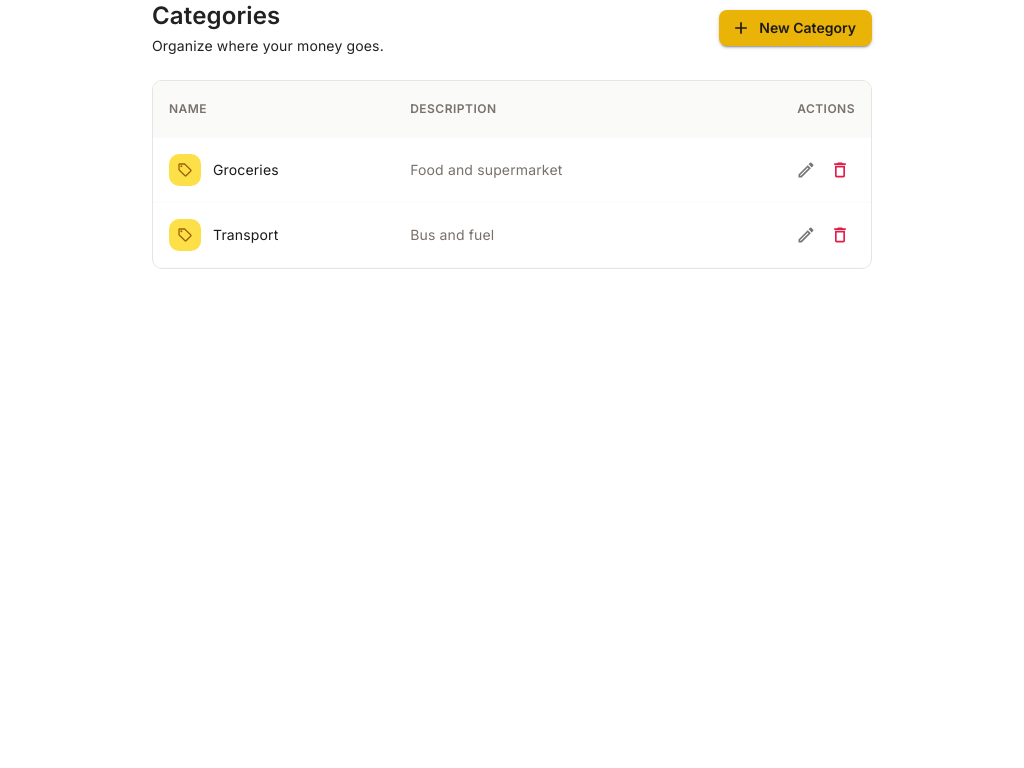
Test case: Categories page › creates a category and closes the dialog
The width and height of the screenshot is (1024, 768).
expect the text "Groceries" is shown: met, box [213,160,279,180]
Click the button "New Category" at (796, 28), box [719,10,872,46]
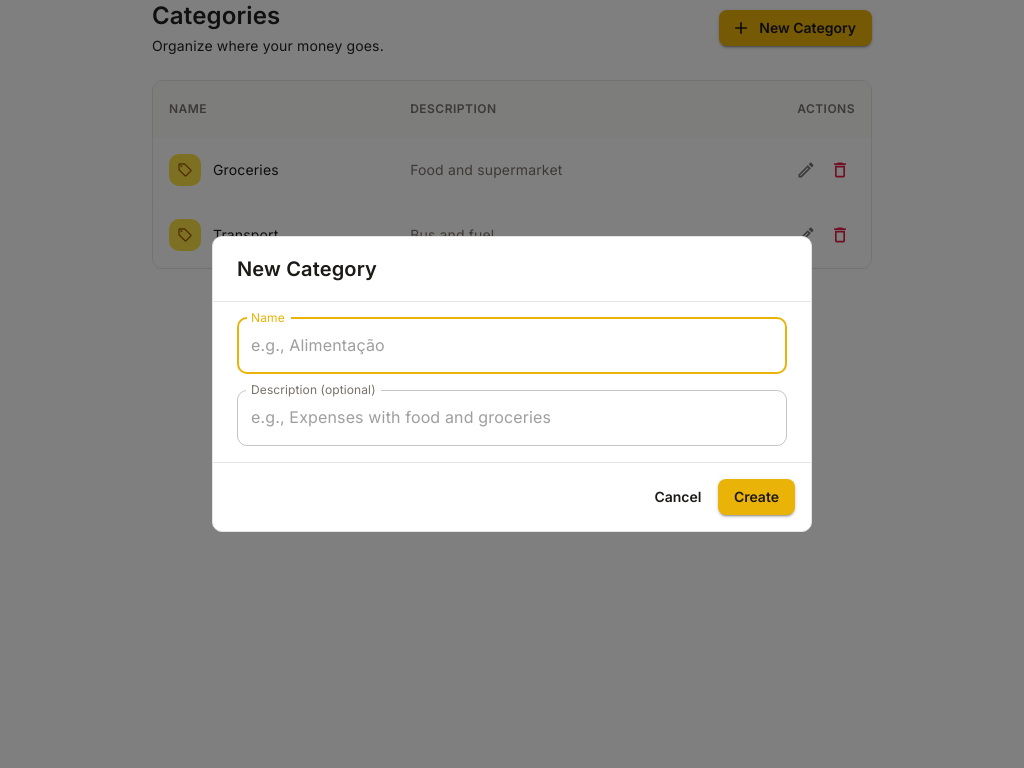
Type "Utilities" into the field labelled "Name" at (512, 346), box [237,318,787,374]
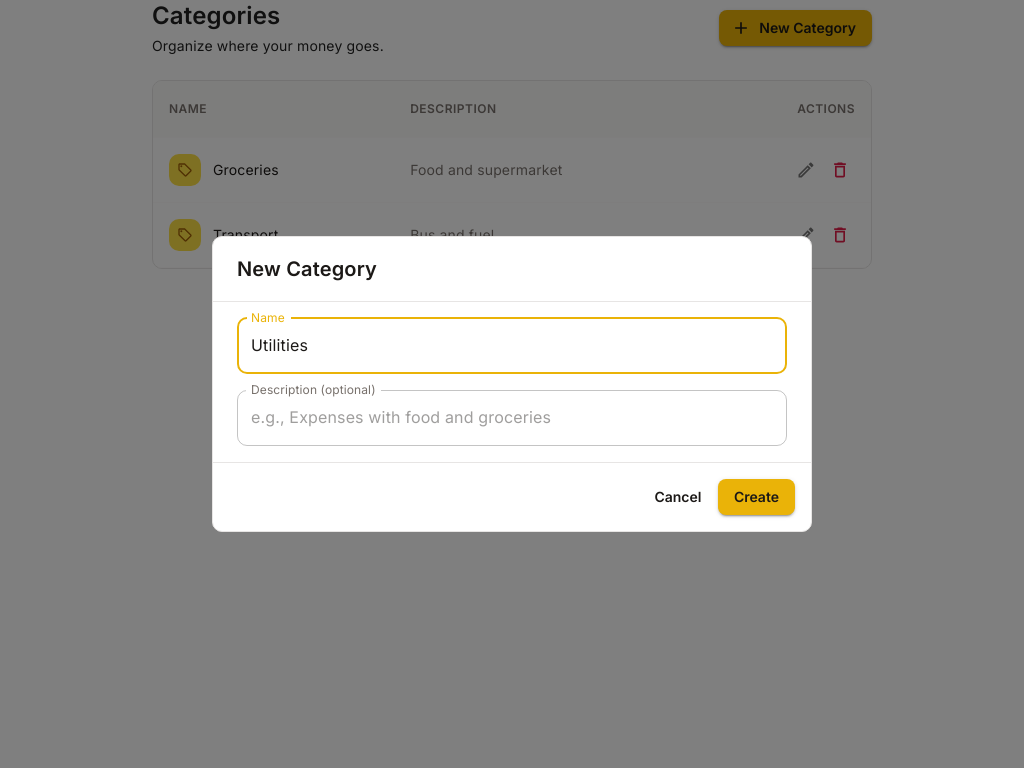
Click the button "Create" at (756, 497), box [718,479,795,515]
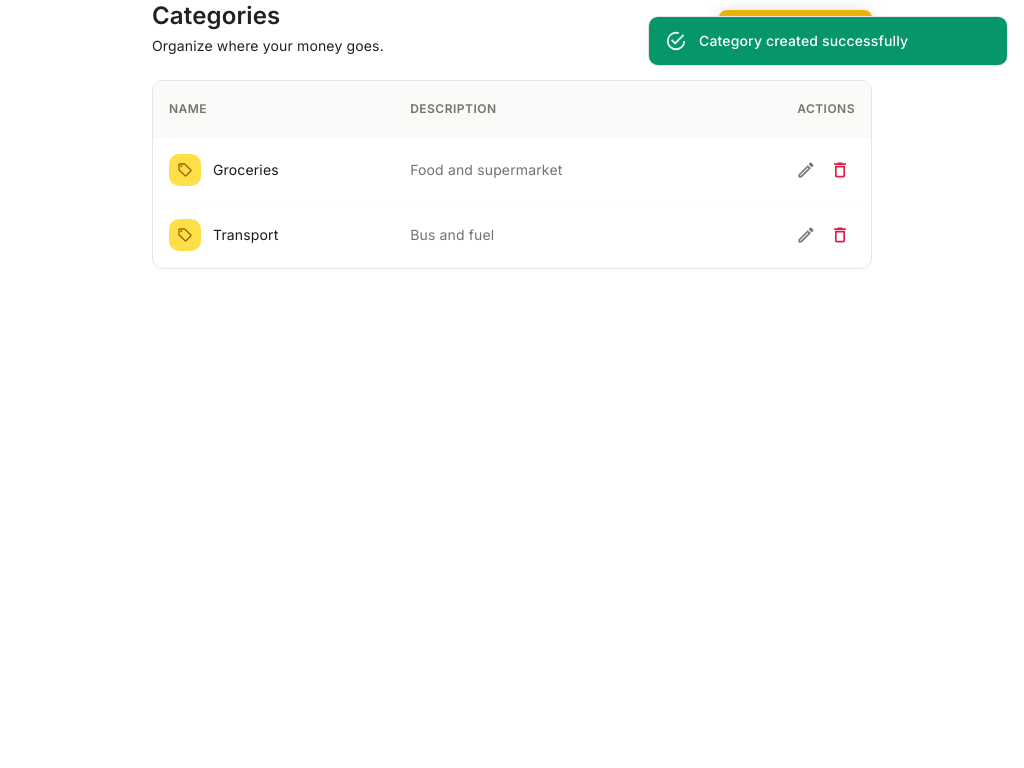
expect the dialog is gone: met
